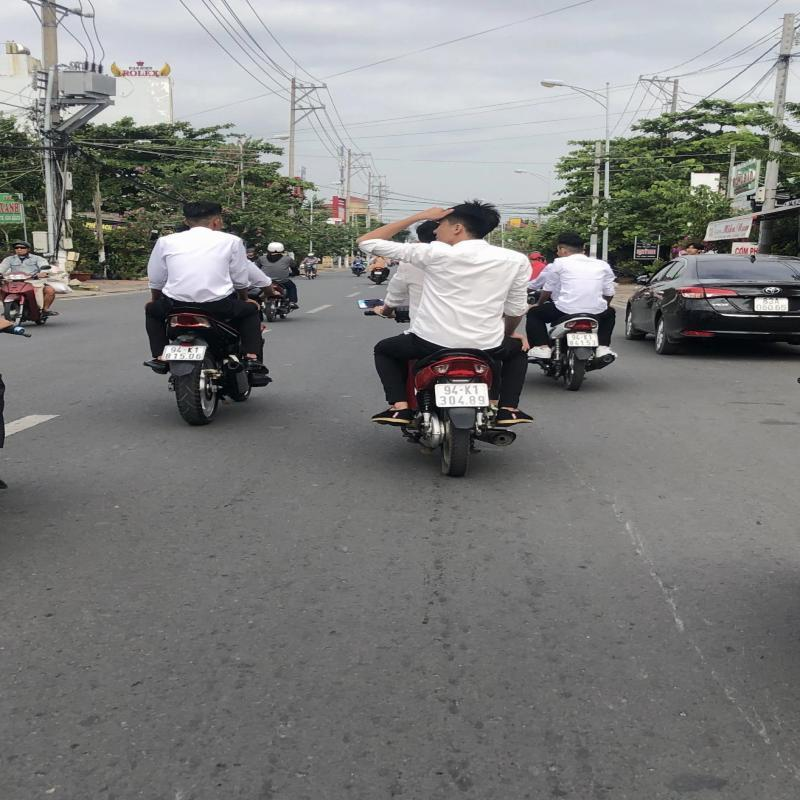licenseplate: (436, 384, 490, 408), (163, 344, 207, 361), (567, 332, 600, 347)
motorcyclist: (354, 199, 544, 480), (144, 200, 284, 428), (528, 231, 622, 392)
nohelmet: (440, 202, 500, 236), (183, 202, 222, 228), (555, 232, 586, 256)
